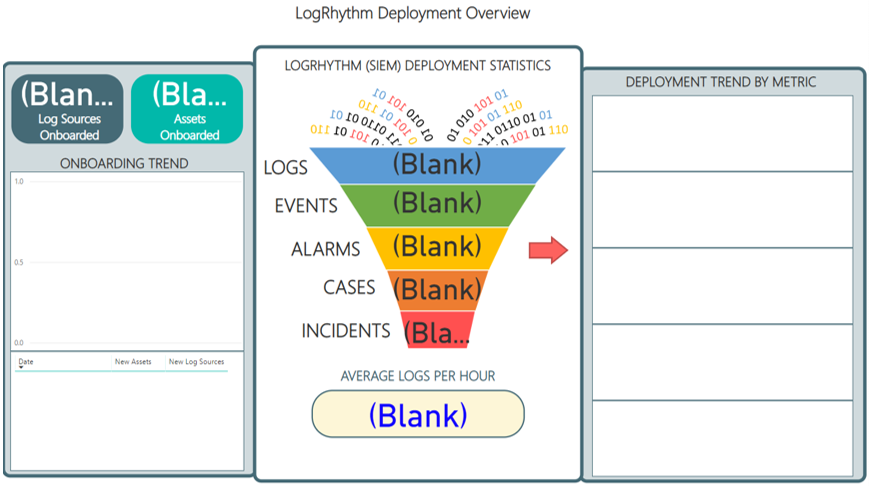

This screenshot's page, from the dashboard's own definition file:
{"tool":"powerbi","page":{"name":"Dashboard","canvas":[1280,720],"ordinal":0},"visuals":[{"type":"basicShape","box":[848,96,432,624],"z":0},{"type":"basicShape","box":[0,88,384,624],"z":1000},{"type":"basicShape","box":[368,64,496,656],"z":2000},{"type":"image","box":[448,120,400,128],"z":3000},{"type":"image","box":[448,168,400,400],"z":4000},{"type":"tableEx","fields":{"Values":["HostIdentifier._Calendar","CountNonNull(HostIdentifier.HostID)","CountNonNull(MsgSource.Name)"]},"box":[16,520,344,176],"z":5000},{"type":"clusteredColumnChart","fields":{"Category":["HostIdentifier._Calendar"],"Y":["CountNonNull(HostIdentifier.HostID)","CountNonNull(MsgSource.Name)"]},"box":[16,256,344,264],"z":6000},{"type":"basicShape","box":[16,112,168,104],"z":7000},{"type":"basicShape","box":[192,112,168,104],"z":8000},{"type":"card","fields":{"Values":["CountNonNull(MsgSource.HostID)"]},"box":[24,104,152,64],"z":9000},{"type":"areaChart","fields":{"Y":["Sum(StatsDeploymentCountsHour.CountProcessedLogs)"],"Category":["Calendar.Date.Variation.Date Hierarchy.Year"]},"box":[872,144,384,112],"z":10000},{"type":"slicer","fields":{"Values":["Calendar.Date"]},"box":[952,16,320,80],"z":11000},{"type":"areaChart","fields":{"Y":["Sum(StatsDeploymentCountsHour.CountEventsForwarded)"],"Category":["Calendar.Date.Variation.Date Hierarchy.Year"]},"box":[872,256,384,112],"z":12000},{"type":"areaChart","fields":{"Category":["Calendar.Date.Variation.Date Hierarchy.Year"],"Y":["Sum(StatsDeploymentCountsHour.CountAlarms)"]},"box":[872,368,384,112],"z":13000},{"type":"areaChart","fields":{"Category":["Calendar.Date.Variation.Date Hierarchy.Year"],"Y":["Count(Case.CaseNumber)"]},"box":[872,480,384,112],"z":14000},{"type":"areaChart","fields":{"Category":["Calendar.Date.Variation.Date Hierarchy.Year"],"Y":["CountNonNull(Case.DateIncident)"]},"box":[872,592,384,112],"z":15000},{"type":"textbox","box":[256,0,704,48],"z":16000},{"type":"textbox","box":[440,464,176,64],"z":17000},{"type":"textbox","box":[384,224,144,64],"z":18000},{"type":"textbox","box":[400,280,160,64],"z":19000},{"type":"textbox","box":[424,344,160,64],"z":20000},{"type":"textbox","box":[472,400,144,64],"z":21000},{"type":"card","fields":{"Values":["CountNonNull(Case.DateIncident)"]},"box":[584,456,120,64],"z":23000},{"type":"card","fields":{"Values":["Sum(StatsDeploymentCountsHour (2).CountAlarms)"]},"box":[544,320,200,80],"z":24000},{"type":"card","fields":{"Values":["Sum(StatsDeploymentCountsHour (2).CountEventsForwarded)"]},"box":[504,256,280,80],"z":25000},{"type":"card","fields":{"Values":["Sum(StatsDeploymentCountsHour (2).CountProcessedLogs)"]},"box":[464,208,360,64],"z":26000},{"type":"card","fields":{"Values":["CountNonNull(Case.DateCreated)"]},"box":[568,384,152,80],"z":27000},{"type":"card","fields":{"Values":["Count(HostIdentifier.HostID)"]},"box":[216,96,128,80],"z":28000},{"type":"textbox","box":[40,160,128,72],"z":29000},{"type":"textbox","box":[216,160,128,72],"z":30000},{"type":"basicShape","box":[456,576,320,72],"z":31000},{"type":"textbox","box":[384,80,464,48],"z":32000},{"type":"textbox","box":[856,104,416,48],"z":33000},{"type":"textbox","box":[384,536,464,48],"z":34000},{"type":"textbox","box":[0,224,368,48],"z":35000},{"type":"basicShape","box":[776,328,64,88],"z":36000},{"type":"card","fields":{"Values":["Avg(StatsDeploymentCountsHour.CountProcessedLogs)"]},"box":[456,568,320,80],"z":36500}]}

Visuals, with their boxes in screenshot pixels (x1, y1, x2, y2), scaled from the page's 1280x720 canvas onto the 869x487 screenshot:
basicShape: <bbox>576, 65, 868, 486</bbox>
basicShape: <bbox>0, 60, 261, 482</bbox>
basicShape: <bbox>250, 43, 587, 486</bbox>
image: <bbox>304, 81, 576, 168</bbox>
image: <bbox>304, 114, 576, 384</bbox>
tableEx - HostIdentifier._Calendar x CountNonNull(HostIdentifier.HostID): <bbox>11, 352, 244, 471</bbox>
clusteredColumnChart - HostIdentifier._Calendar x CountNonNull(HostIdentifier.HostID): <bbox>11, 173, 244, 352</bbox>
basicShape: <bbox>11, 76, 125, 146</bbox>
basicShape: <bbox>130, 76, 244, 146</bbox>
card - CountNonNull(MsgSource.HostID): <bbox>16, 70, 119, 114</bbox>
areaChart - Sum(StatsDeploymentCountsHour.CountProcessedLogs) x Calendar.Date.Variation.Date Hierarchy.Year: <bbox>592, 97, 853, 173</bbox>
slicer - Calendar.Date: <bbox>646, 11, 864, 65</bbox>
areaChart - Sum(StatsDeploymentCountsHour.CountEventsForwarded) x Calendar.Date.Variation.Date Hierarchy.Year: <bbox>592, 173, 853, 249</bbox>
areaChart - Calendar.Date.Variation.Date Hierarchy.Year x Sum(StatsDeploymentCountsHour.CountAlarms): <bbox>592, 249, 853, 325</bbox>
areaChart - Calendar.Date.Variation.Date Hierarchy.Year x Count(Case.CaseNumber): <bbox>592, 325, 853, 400</bbox>
areaChart - Calendar.Date.Variation.Date Hierarchy.Year x CountNonNull(Case.DateIncident): <bbox>592, 400, 853, 476</bbox>
textbox: <bbox>174, 0, 652, 32</bbox>
textbox: <bbox>299, 314, 418, 357</bbox>
textbox: <bbox>261, 152, 358, 195</bbox>
textbox: <bbox>272, 189, 380, 233</bbox>
textbox: <bbox>288, 233, 396, 276</bbox>
textbox: <bbox>320, 271, 418, 314</bbox>
card - CountNonNull(Case.DateIncident): <bbox>396, 308, 478, 352</bbox>
card - Sum(StatsDeploymentCountsHour (2).CountAlarms): <bbox>369, 216, 505, 271</bbox>
card - Sum(StatsDeploymentCountsHour (2).CountEventsForwarded): <bbox>342, 173, 532, 227</bbox>
card - Sum(StatsDeploymentCountsHour (2).CountProcessedLogs): <bbox>315, 141, 559, 184</bbox>
card - CountNonNull(Case.DateCreated): <bbox>386, 260, 489, 314</bbox>
card - Count(HostIdentifier.HostID): <bbox>147, 65, 234, 119</bbox>
textbox: <bbox>27, 108, 114, 157</bbox>
textbox: <bbox>147, 108, 234, 157</bbox>
basicShape: <bbox>310, 390, 527, 438</bbox>
textbox: <bbox>261, 54, 576, 87</bbox>
textbox: <bbox>581, 70, 864, 103</bbox>
textbox: <bbox>261, 363, 576, 395</bbox>
textbox: <bbox>0, 152, 250, 184</bbox>
basicShape: <bbox>527, 222, 570, 281</bbox>
card - Avg(StatsDeploymentCountsHour.CountProcessedLogs): <bbox>310, 384, 527, 438</bbox>
